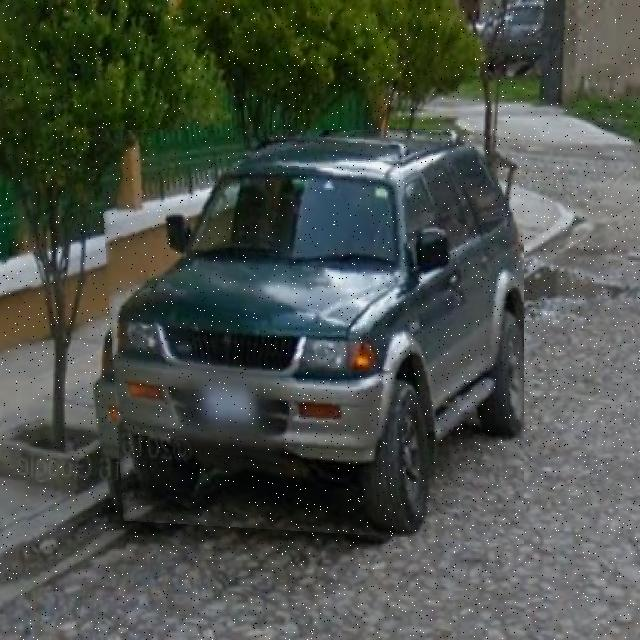car: (97, 131, 525, 547)
